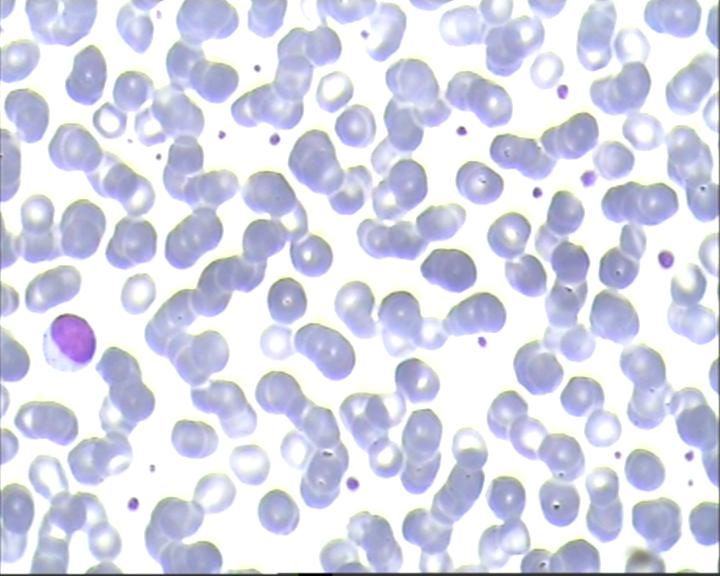lymp: (36, 306, 96, 374)
